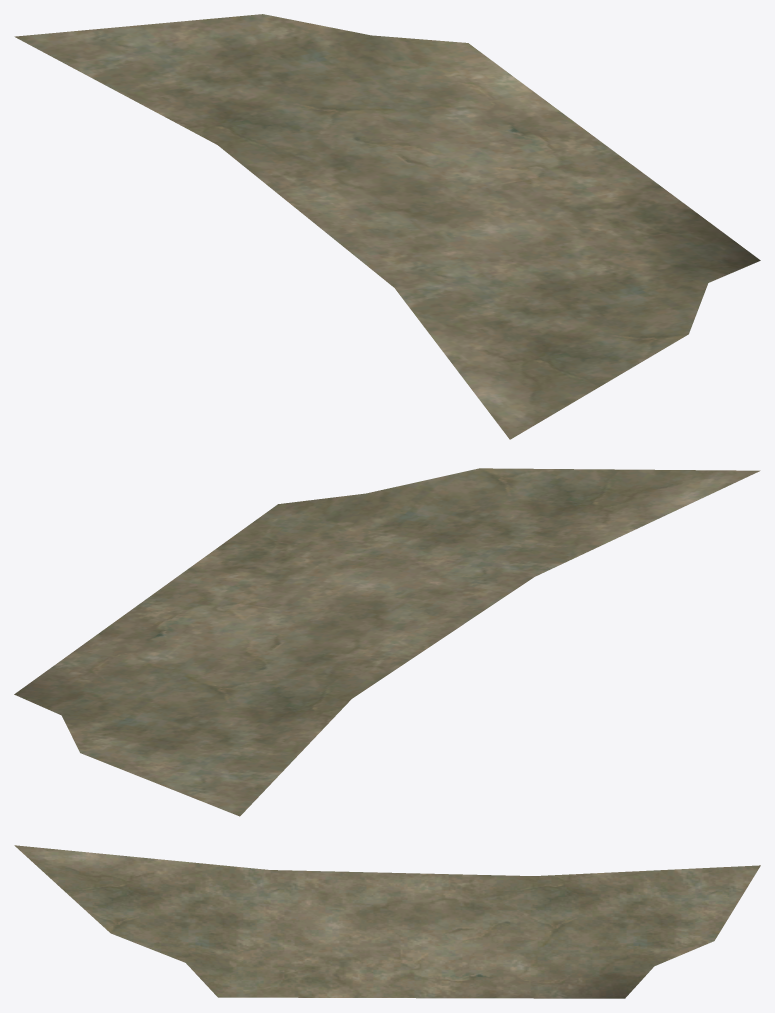
Rendered from OVERHILL_A_01_LINE136.fbx.
The picture shows the model from 3 angles, top to bottom: view 1: azimuth 30°, elevation 25°; view 2: azimuth 150°, elevation 25°; view 3: azimuth 270°, elevation 25°; orthographic projection. The views are drawn at different scales.
Visible parts, largest first — view 1: OVERHILL_A_01_LINE136; view 2: OVERHILL_A_01_LINE136; view 3: OVERHILL_A_01_LINE136.
Part boxes in pixels (x1,y1,x2,y2): OVERHILL_A_01_LINE136: [14, 14, 760, 439]; OVERHILL_A_01_LINE136: [14, 468, 760, 816]; OVERHILL_A_01_LINE136: [14, 845, 760, 998].
Size of the model in its own units: 14593 by 927 by 34100.
1 material, 1 textured.
